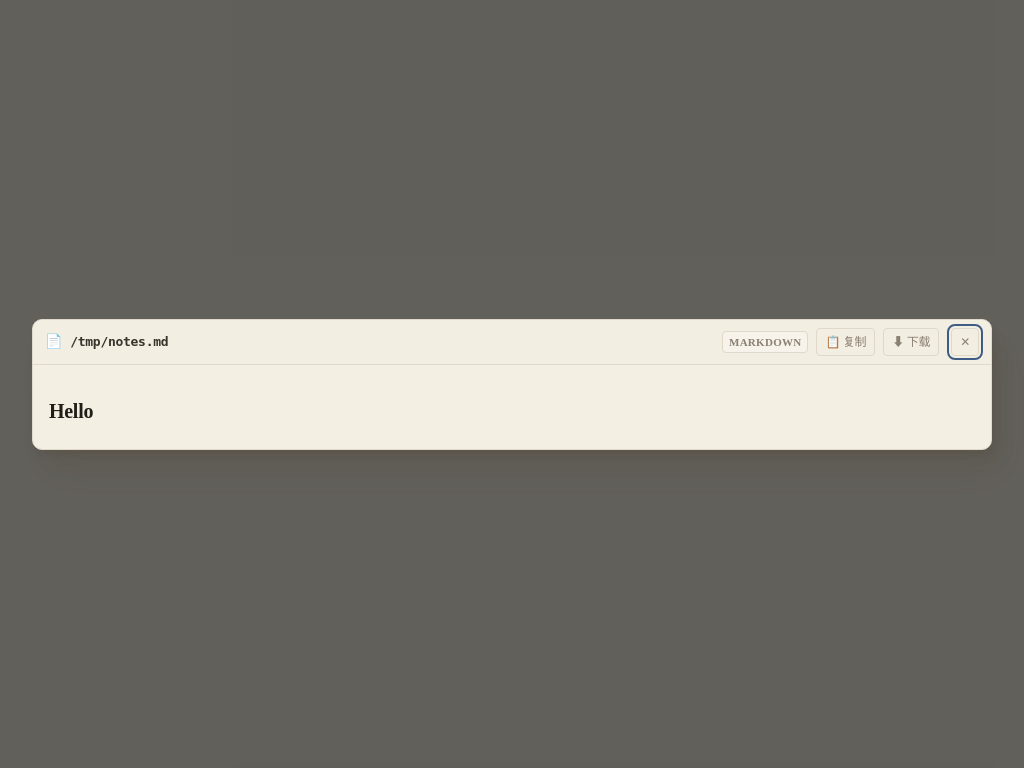
Test: DocumentPreviewModal › copies the whole file content to the clipboard
Click the button with aria-label "复制文件内容": (846, 342) x1=816 y1=328 x2=875 y2=356
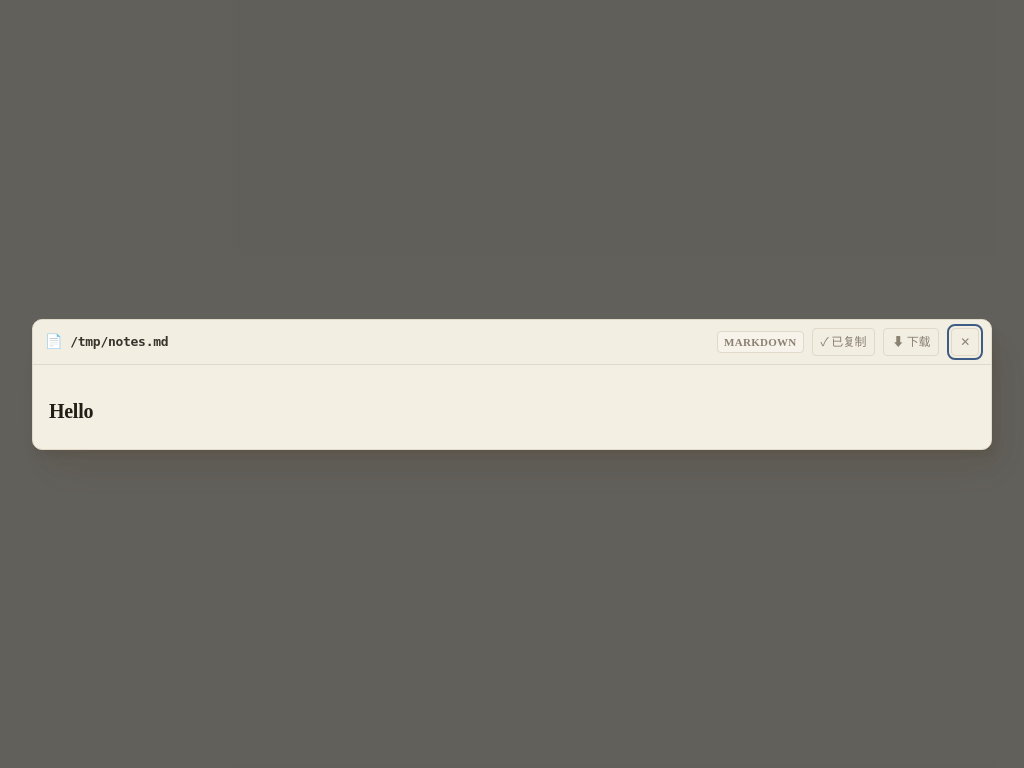
Expected: the button "✓ 已复制" is shown, x1=812 y1=328 x2=875 y2=356
